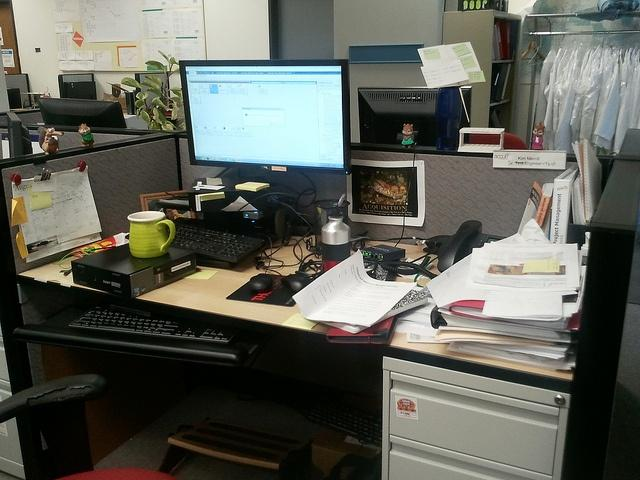AIO PC-Monitor-TV: (177, 57, 351, 179)
Filing Cabinet: (377, 354, 572, 479)
